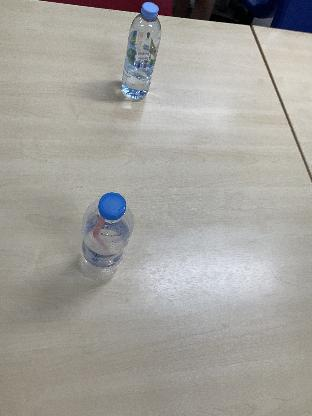Plastic Bottle: (80, 192, 134, 282), (122, 2, 162, 102)
